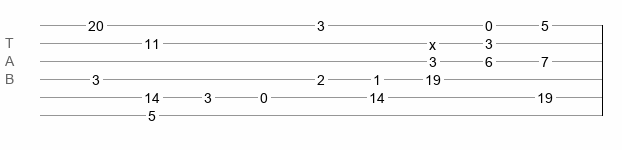0: (260, 90, 268, 100), (485, 18, 493, 28)
1: (373, 72, 381, 82)
11: (144, 36, 160, 46)
14: (144, 90, 160, 100), (369, 90, 385, 100)
19: (425, 72, 441, 82), (537, 90, 553, 100)
2: (317, 72, 325, 82)
20: (88, 18, 104, 28)
3: (92, 72, 100, 82), (204, 90, 212, 100), (317, 18, 325, 28), (429, 54, 437, 64), (485, 36, 493, 46)
5: (148, 108, 156, 118), (541, 18, 549, 28)
6: (485, 54, 493, 64)
7: (541, 54, 549, 64)
x: (429, 37, 436, 45)
